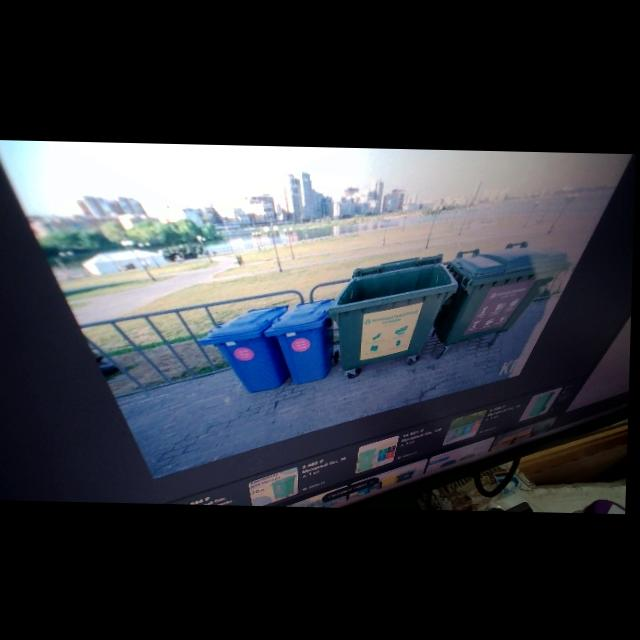Trash_Can_Closed: (435, 242, 575, 346), (202, 304, 293, 393), (266, 296, 334, 385)
Trash_Can_Empty: (328, 260, 461, 370)
